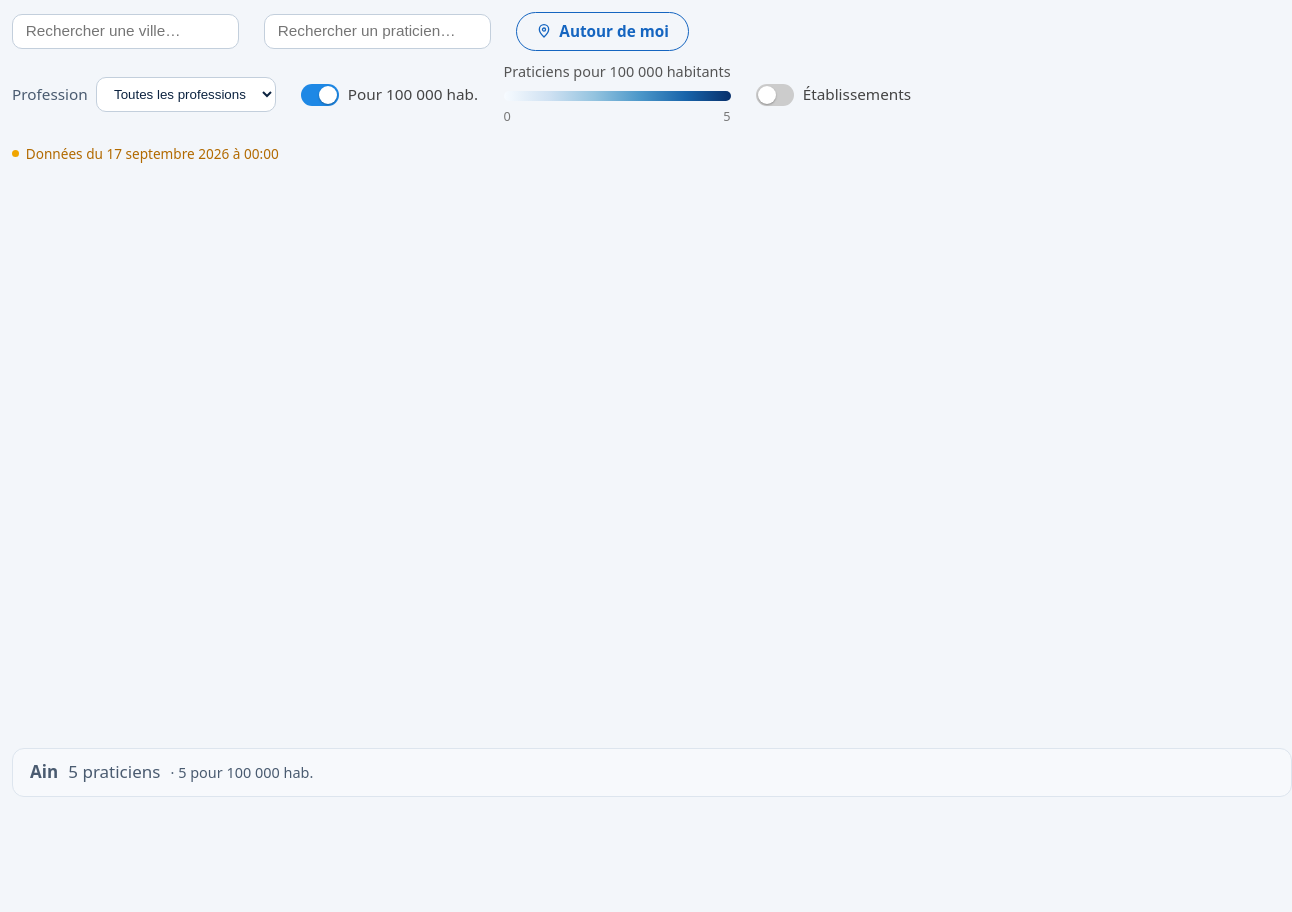
Test: LeafletFranceMap › un filtre de profession n'écrase plus tout sur un seul point (régression signalée : Andrézieux-Bouthéon ne montrait plus qu'un point avec un filtre actif)
Select "Infirmier" in the dropdown labelled "Profession". click: (186, 95)
box: [96,77,276,112]
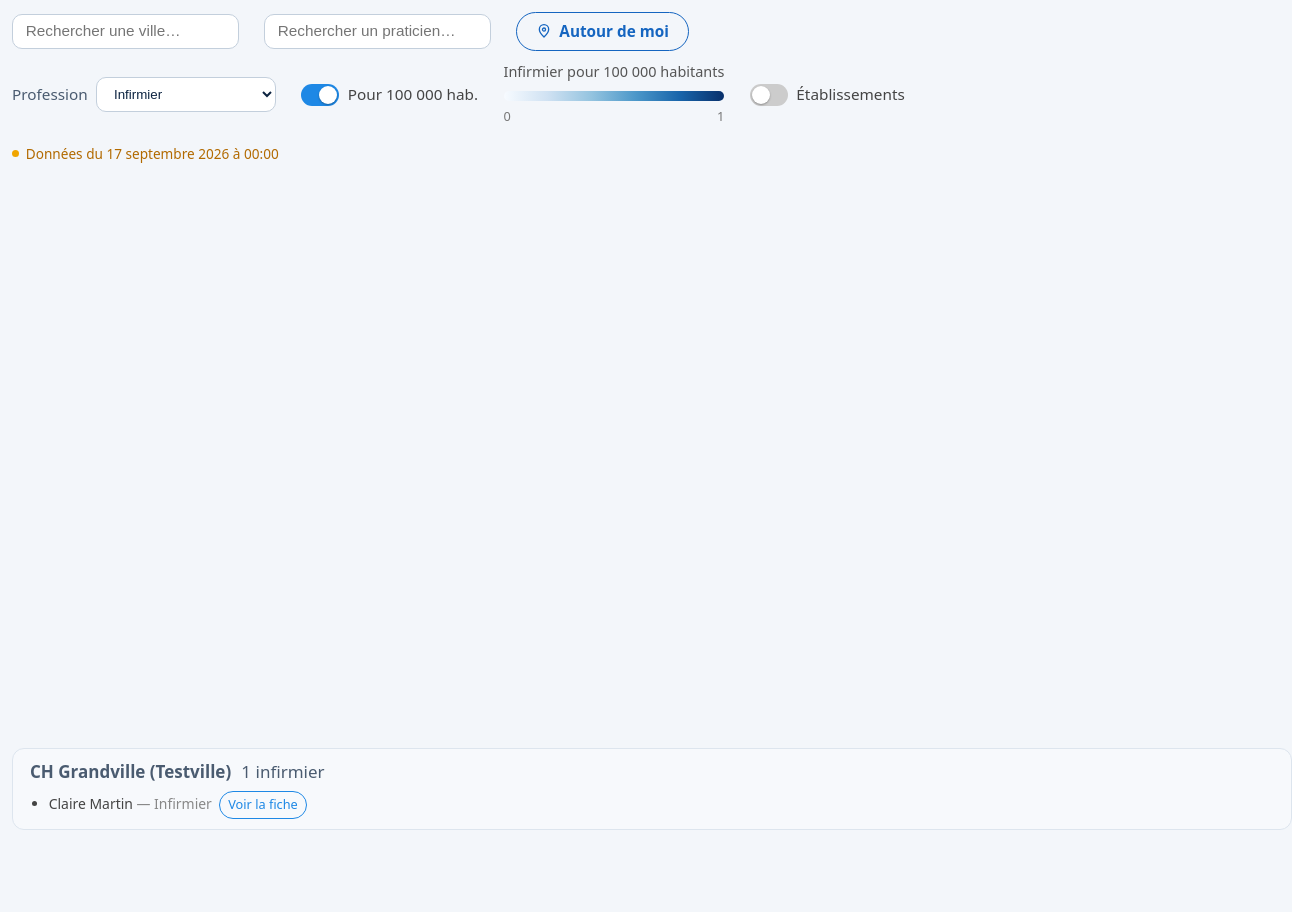
Expected: the text "CH Grandville" is shown, [30,760,231,783]
Expected: the text "Claire" is shown, [49,794,137,813]
Expected: the text "Martin" is shown, [49,794,137,813]
